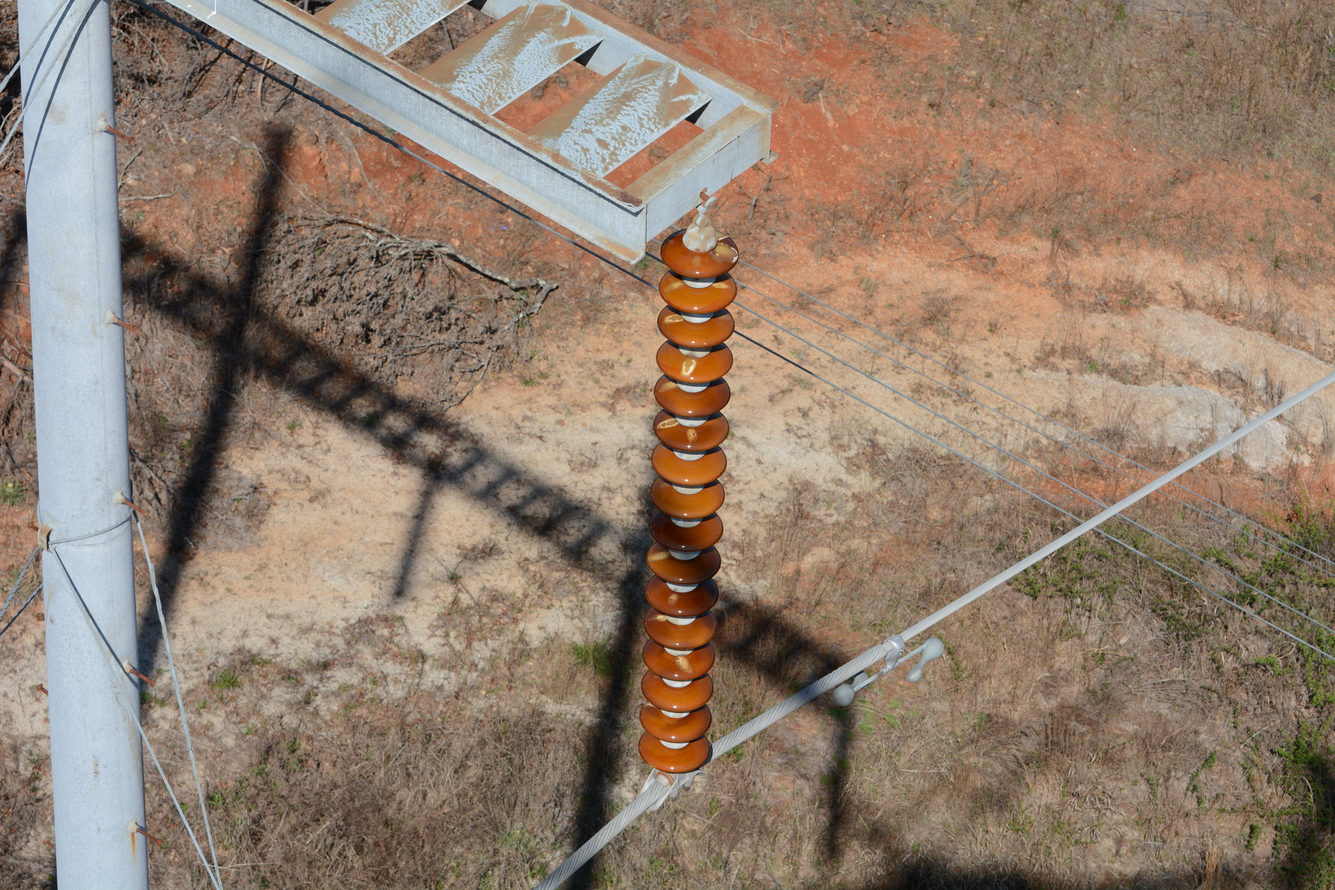Flashover: (708, 231, 738, 263), (661, 277, 687, 295), (676, 655, 696, 674), (680, 356, 697, 376), (662, 310, 684, 325), (647, 549, 669, 564), (684, 425, 699, 445), (657, 417, 680, 430), (659, 380, 678, 395), (709, 278, 730, 290), (642, 696, 661, 709), (667, 591, 682, 607), (645, 613, 669, 623)
hammer: (831, 630, 946, 707)
insulator: (639, 218, 740, 774)
